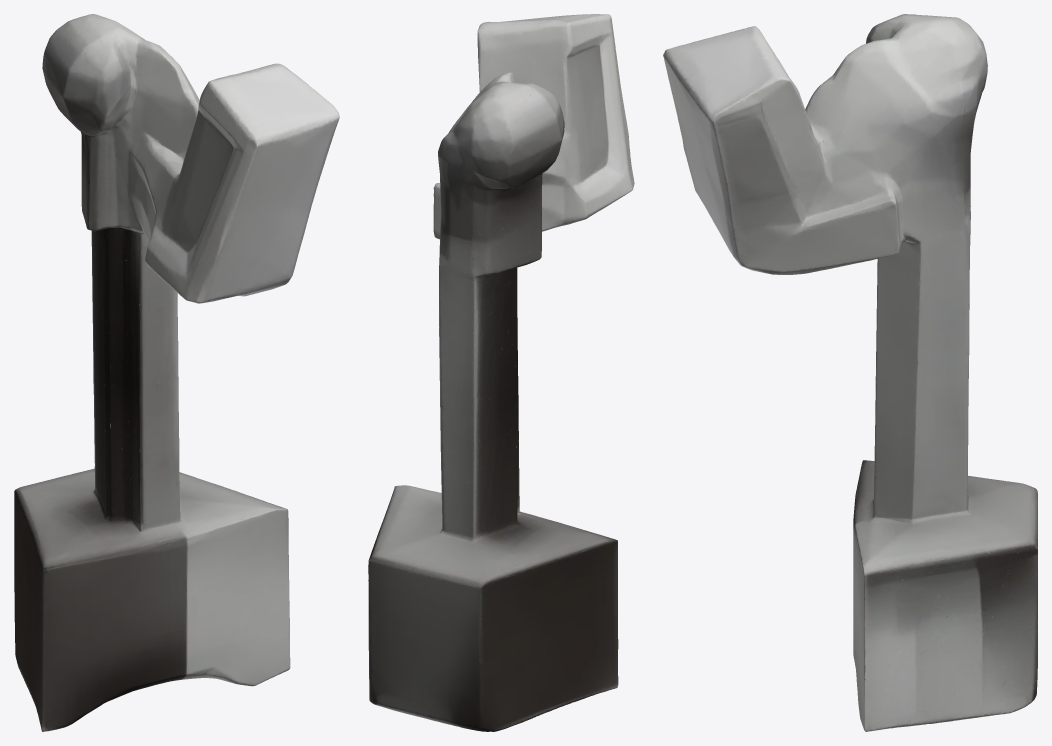
Rendered from hammer.glb.
3 views of the same model, side by side, from view 1: azimuth 30°, elevation 25°; view 2: azimuth 150°, elevation 25°; view 3: azimuth 270°, elevation 25° (orthographic). The views are drawn at different scales.
Parts seen in each view (by area): view 1: geometry_0; view 2: geometry_0; view 3: geometry_0.
Boxes of the visible parts, left/top/right/bottom form: geometry_0: left=14, top=14, right=339, bottom=731; geometry_0: left=368, top=14, right=634, bottom=731; geometry_0: left=663, top=14, right=1037, bottom=731.
Bounding box in the file's own units: 0.3879 × 1 × 0.524.
1 material, 1 textured.
